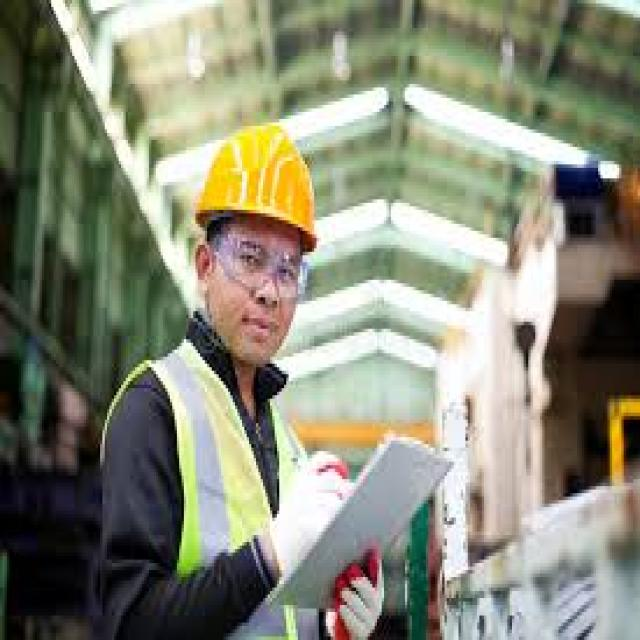Reflective-Jacket: (97, 335, 356, 640)
Safety-Helmet: (186, 115, 328, 262)
